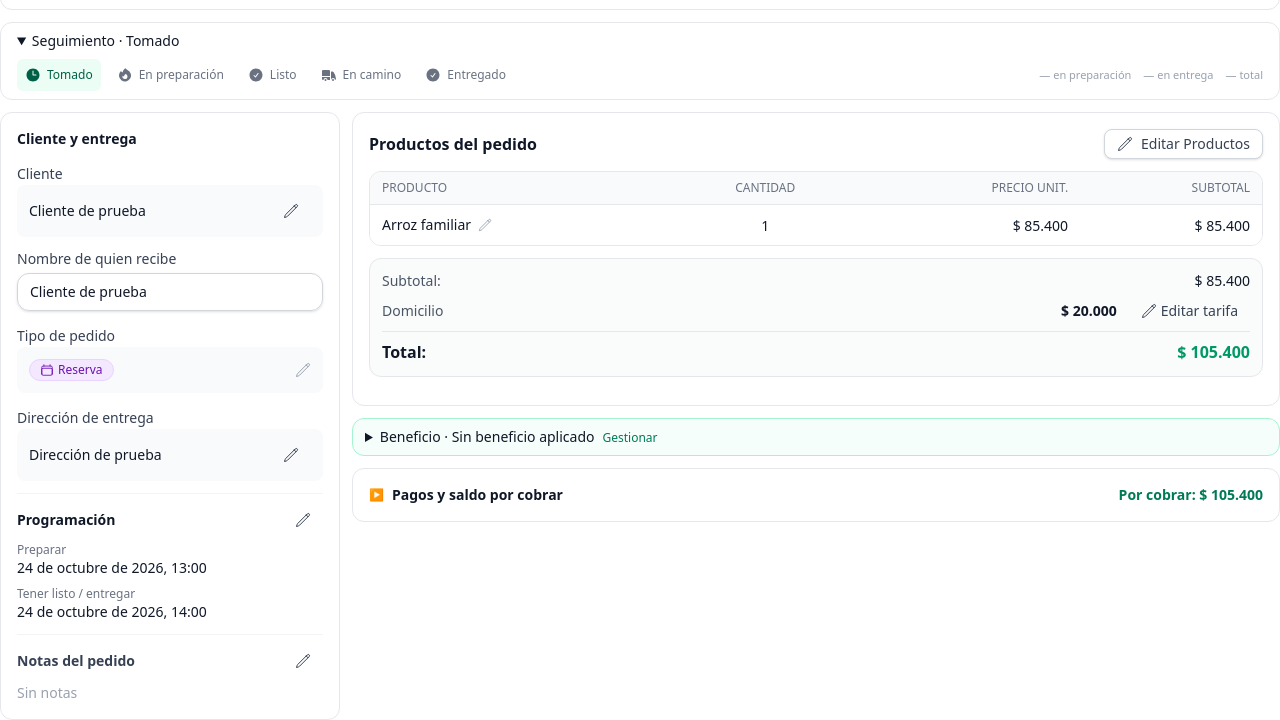
OrderDetailContent presentation and reservation delivery fee › keeps the note draft visible after a save failure so it can be retried
(page scrolled)
Click the button named "Editar notas del pedido" at x=303, y=661, box top-left (283, 647), bottom-right (323, 675)
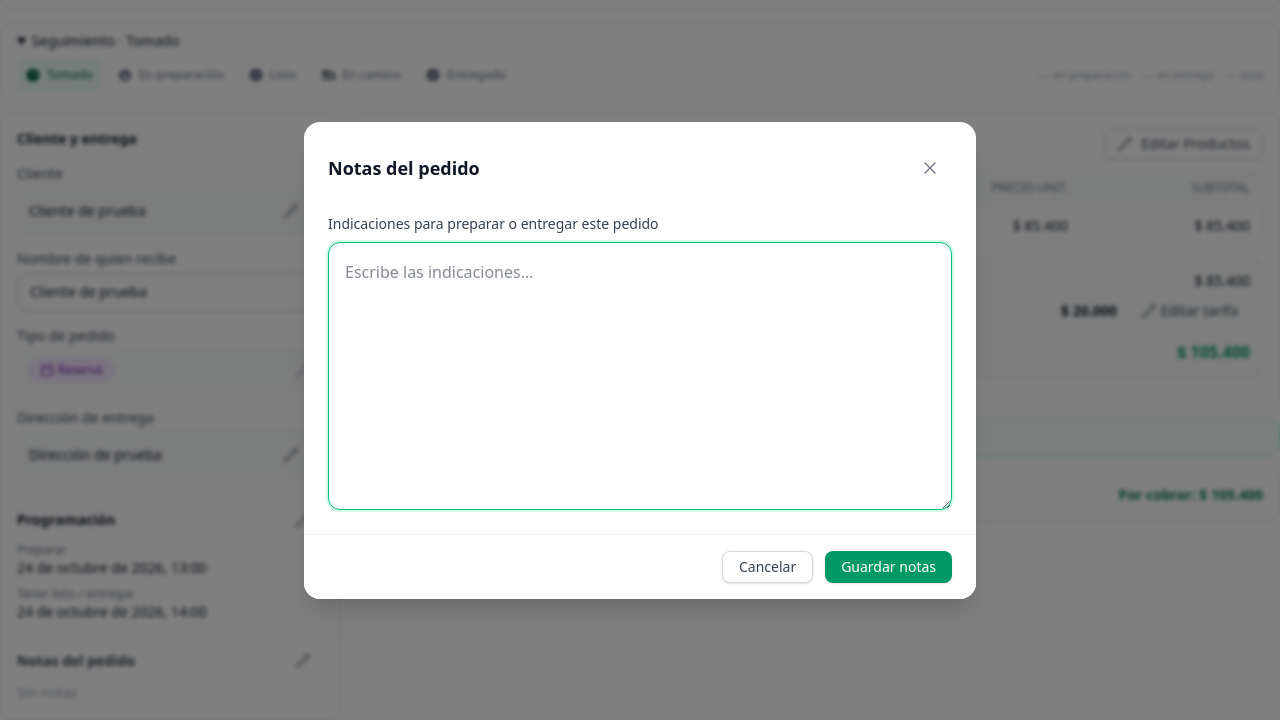
Type "Conservar este borrador" into the text box labelled "Indicaciones para preparar o entregar este pedido" at x=640, y=376, box top-left (328, 242), bottom-right (952, 510)
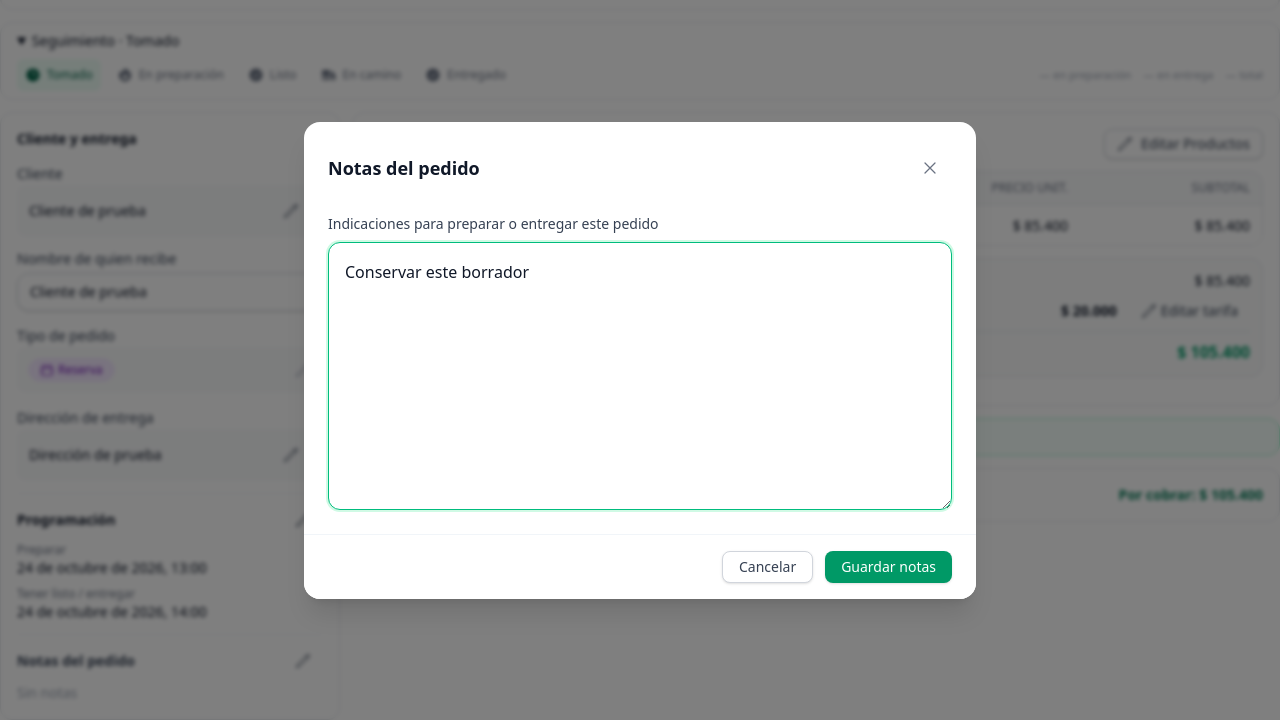
Click the button "Guardar notas" at x=889, y=566, box top-left (825, 550), bottom-right (952, 582)
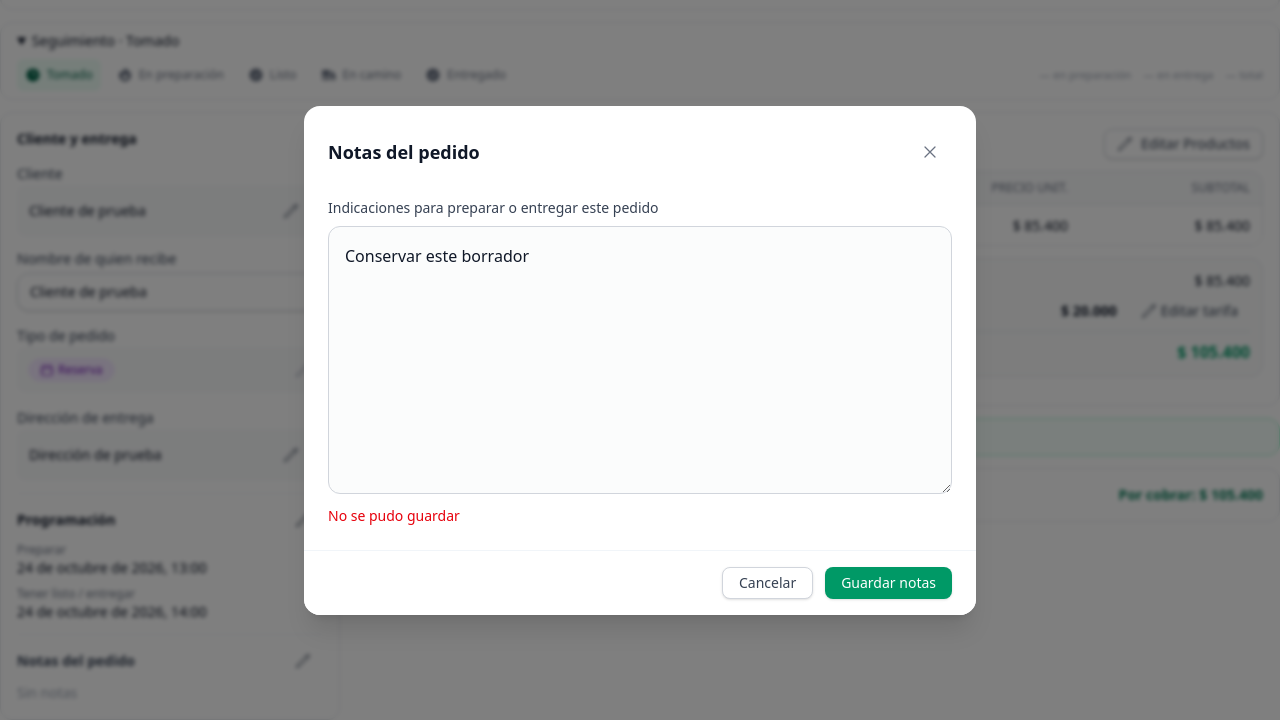
Result: the text box labelled "Indicaciones para preparar o entregar este pedido" holds "Conservar este borrador" at top-left (328, 226), bottom-right (952, 494)
Result: the dialog shows "No se pudo guardar" at top-left (328, 506), bottom-right (460, 524)
